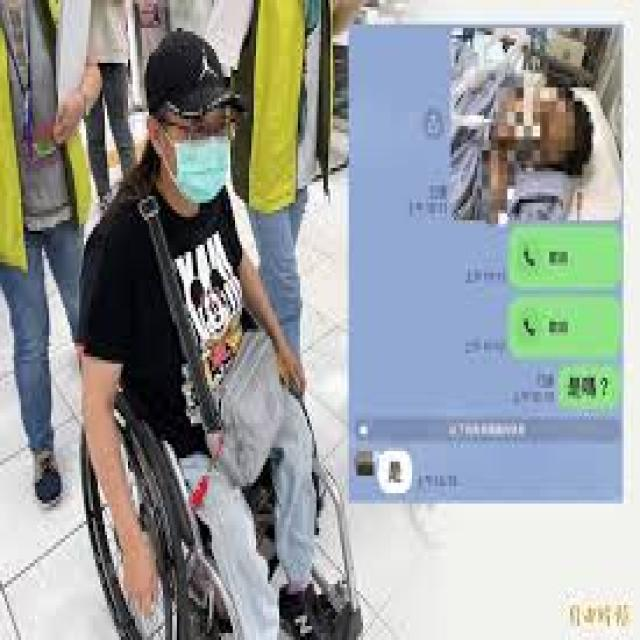wheelchairs: (61, 196, 363, 636)
